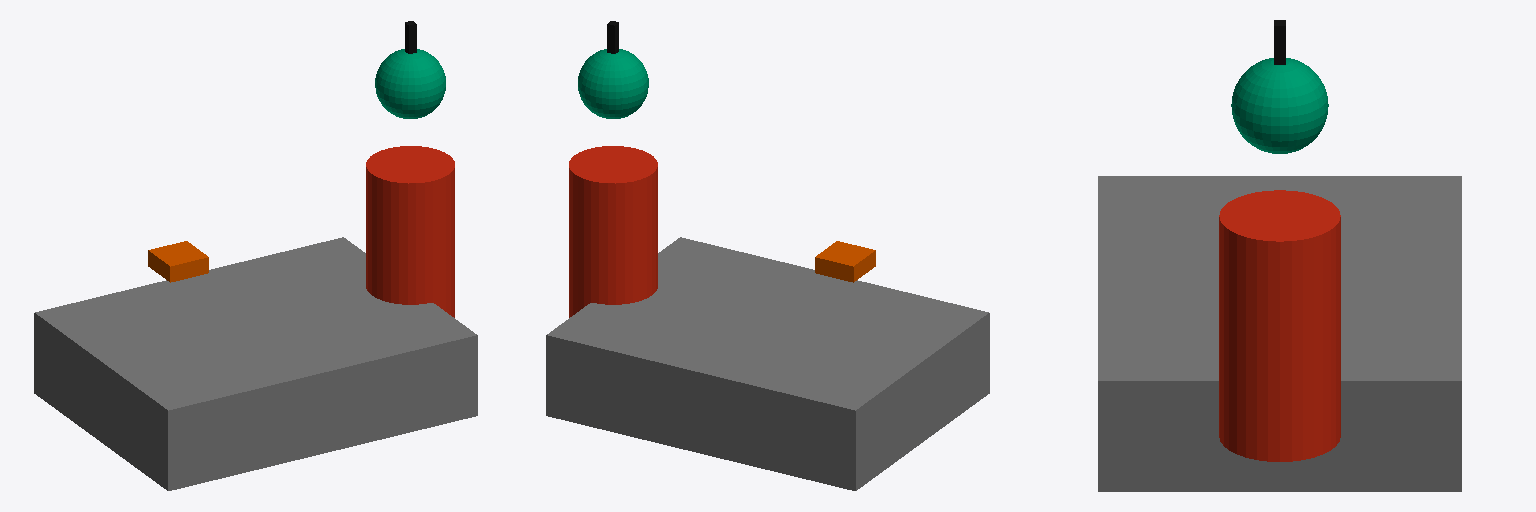
robot.urdf — full_robot:
<?xml version="1.0"?>
<!--
  Comprehensive v1.0 robot exercising all URDF features:
  all geometry types (box, cylinder, sphere, mesh), inertial elements,
  global and inline materials, every joint type (revolute, prismatic,
  continuous, fixed, floating, planar), dynamics, safety_controller,
  calibration, and mimic.
-->
<robot name="full_robot" version="1.0">

  <!-- Global materials -->
  <material name="steel">
    <color rgba="0.5 0.5 0.5 1.0"/>
  </material>
  <material name="rubber">
    <color rgba="0.1 0.1 0.1 1.0"/>
  </material>

  <!-- Root link: box visual + collision, full inertial -->
  <link name="base_link">
    <inertial>
      <origin xyz="0 0 0.05" rpy="0 0 0"/>
      <mass value="10.0"/>
      <inertia ixx="0.1" ixy="0.0" ixz="0.0"
               iyy="0.1" iyz="0.0" izz="0.05"/>
    </inertial>
    <visual name="base_vis">
      <origin xyz="0 0 0" rpy="0 0 0"/>
      <geometry><box size="0.4 0.3 0.1"/></geometry>
      <material name="steel"/>
    </visual>
    <collision name="base_col">
      <geometry><box size="0.4 0.3 0.1"/></geometry>
    </collision>
  </link>

  <!-- Revolute joint with limits, dynamics, safety, calibration -->
  <link name="shoulder_link">
    <inertial>
      <mass value="2.5"/>
      <inertia ixx="0.01" ixy="0.0" ixz="0.0"
               iyy="0.01" iyz="0.0" izz="0.005"/>
    </inertial>
    <visual>
      <geometry><cylinder radius="0.05" length="0.2"/></geometry>
      <material name="">
        <color rgba="0.8 0.2 0.1 1.0"/>
      </material>
    </visual>
    <collision>
      <geometry><cylinder radius="0.05" length="0.2"/></geometry>
    </collision>
  </link>
  <joint name="shoulder_joint" type="revolute">
    <parent link="base_link"/>
    <child link="shoulder_link"/>
    <origin xyz="0.2 0 0.1" rpy="0 0 0"/>
    <axis xyz="0 1 0"/>
    <limit lower="-1.5707963" upper="1.5707963" effort="50.0" velocity="1.0"/>
    <dynamics damping="1.0" friction="0.1"/>
    <safety_controller soft_lower_limit="-1.4" soft_upper_limit="1.4"
                       k_position="10.0" k_velocity="5.0"/>
    <calibration rising="0.0" falling="-0.1"/>
  </joint>

  <!-- Prismatic joint with limits and dynamics -->
  <link name="elbow_link">
    <inertial>
      <mass value="1.0"/>
      <inertia ixx="0.005" ixy="0.0" ixz="0.0"
               iyy="0.005" iyz="0.0" izz="0.002"/>
    </inertial>
    <visual>
      <geometry><sphere radius="0.04"/></geometry>
    </visual>
  </link>
  <joint name="elbow_joint" type="prismatic">
    <parent link="shoulder_link"/>
    <child link="elbow_link"/>
    <origin xyz="0 0 0.2"/>
    <axis xyz="0 0 1"/>
    <limit lower="-0.1" upper="0.1" effort="20.0" velocity="0.2"/>
    <dynamics damping="0.5" friction="0.05"/>
  </joint>

  <!-- Continuous joint with dynamics; mesh visual + sphere collision -->
  <link name="wrist_link">
    <visual>
      <geometry><mesh filename="package://robot/meshes/wrist.dae"/></geometry>
    </visual>
    <collision>
      <geometry><sphere radius="0.03"/></geometry>
    </collision>
  </link>
  <joint name="wrist_joint" type="continuous">
    <parent link="elbow_link"/>
    <child link="wrist_link"/>
    <axis xyz="1 0 0"/>
    <dynamics damping="0.2" friction="0.0"/>
  </joint>

  <!-- Fixed joint with origin offset -->
  <link name="tool_link">
    <visual>
      <geometry><box size="0.01 0.01 0.05"/></geometry>
      <material name="rubber"/>
    </visual>
  </link>
  <joint name="tool_joint" type="fixed">
    <parent link="wrist_link"/>
    <child link="tool_link"/>
    <origin xyz="0 0 0.05" rpy="0 0 1.5707963"/>
  </joint>

  <!-- Floating joint -->
  <link name="camera_link">
    <visual>
      <geometry><box size="0.05 0.05 0.02"/></geometry>
    </visual>
  </link>
  <joint name="camera_joint" type="floating">
    <parent link="base_link"/>
    <child link="camera_link"/>
    <origin xyz="-0.1 0 0.15"/>
  </joint>

  <!-- Planar joint with mimic -->
  <link name="platform_link">
    <visual>
      <geometry><box size="0.2 0.2 0.01"/></geometry>
    </visual>
  </link>
  <joint name="platform_joint" type="planar">
    <parent link="base_link"/>
    <child link="platform_link"/>
    <mimic joint="shoulder_joint" multiplier="0.5" offset="0.0"/>
  </joint>

</robot>

--- What the picture shows (computed from the rendered views, not written in the file) ---
The picture shows the robot from 3 angles, left to right: view 1: azimuth 30°, elevation 25°; view 2: azimuth 150°, elevation 25°; view 3: azimuth 270°, elevation 25°; orthographic projection.
Model full_robot with 7 links and 6 joints (1 revolute, 1 continuous, 1 prismatic, 1 fixed, 1 floating, 1 planar), rooted at base_link, posed all joints at 0.
Links seen in each view (by area): view 1: base_link, shoulder_link, elbow_link, camera_link; view 2: base_link, shoulder_link, elbow_link, camera_link; view 3: base_link, shoulder_link, elbow_link, tool_link.
Link boxes in pixels (x1,y1,x2,y2): base_link: [34, 237, 477, 490]; shoulder_link: [366, 146, 454, 317]; elbow_link: [375, 49, 445, 118]; camera_link: [148, 241, 208, 282]; base_link: [546, 237, 989, 490]; shoulder_link: [569, 146, 657, 317]; elbow_link: [578, 49, 648, 118]; camera_link: [815, 241, 875, 282]; base_link: [1098, 176, 1461, 491]; shoulder_link: [1219, 190, 1340, 461]; elbow_link: [1231, 58, 1328, 153]; tool_link: [1274, 20, 1285, 64].
Size in the robot's own frame: 0.45 by 0.3 by 0.425 metres.
Meshes: 1 distinct files referenced, 0 mesh visuals loaded (none loaded); not drawn: 1 (reference not matched to a file when rendering).
